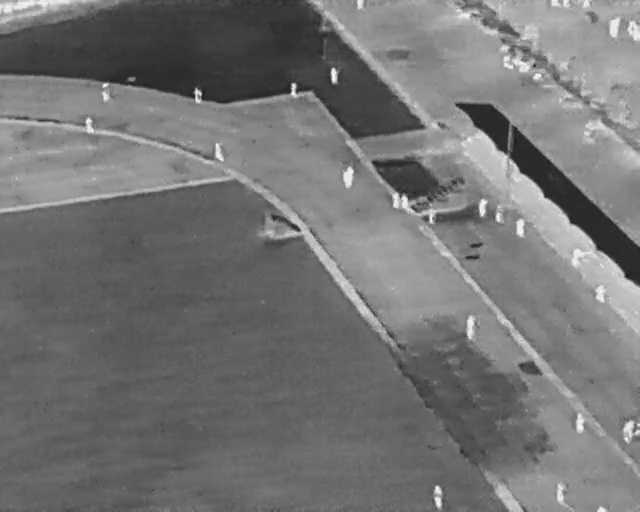DontCare: (498, 41, 544, 83)
Person: (606, 15, 623, 42), (622, 419, 635, 444), (465, 315, 476, 339), (343, 166, 355, 188), (627, 20, 639, 41), (433, 485, 443, 510), (596, 283, 607, 304), (101, 82, 111, 104), (556, 482, 566, 504), (428, 203, 438, 225), (215, 142, 225, 162), (495, 204, 505, 224), (576, 412, 585, 434), (516, 218, 525, 238), (479, 198, 488, 217), (85, 117, 95, 134), (193, 87, 203, 104), (392, 191, 400, 208), (401, 193, 409, 209), (331, 67, 338, 84), (291, 82, 298, 97), (596, 505, 607, 512), (356, 0, 365, 8)
